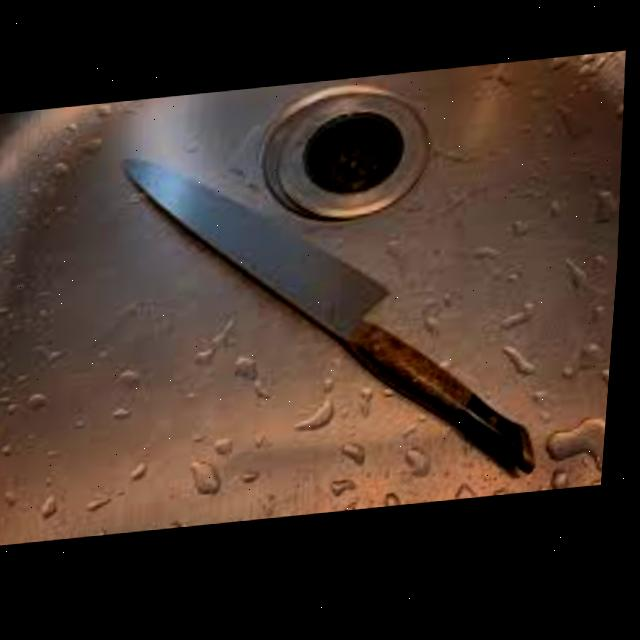Knife: (102, 121, 563, 519)
